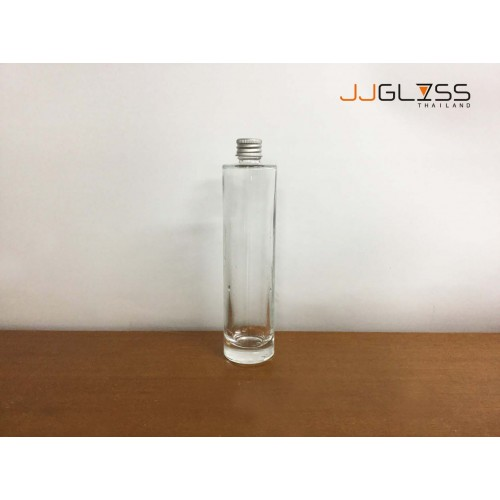glass_bottle: (213, 134, 286, 368)
